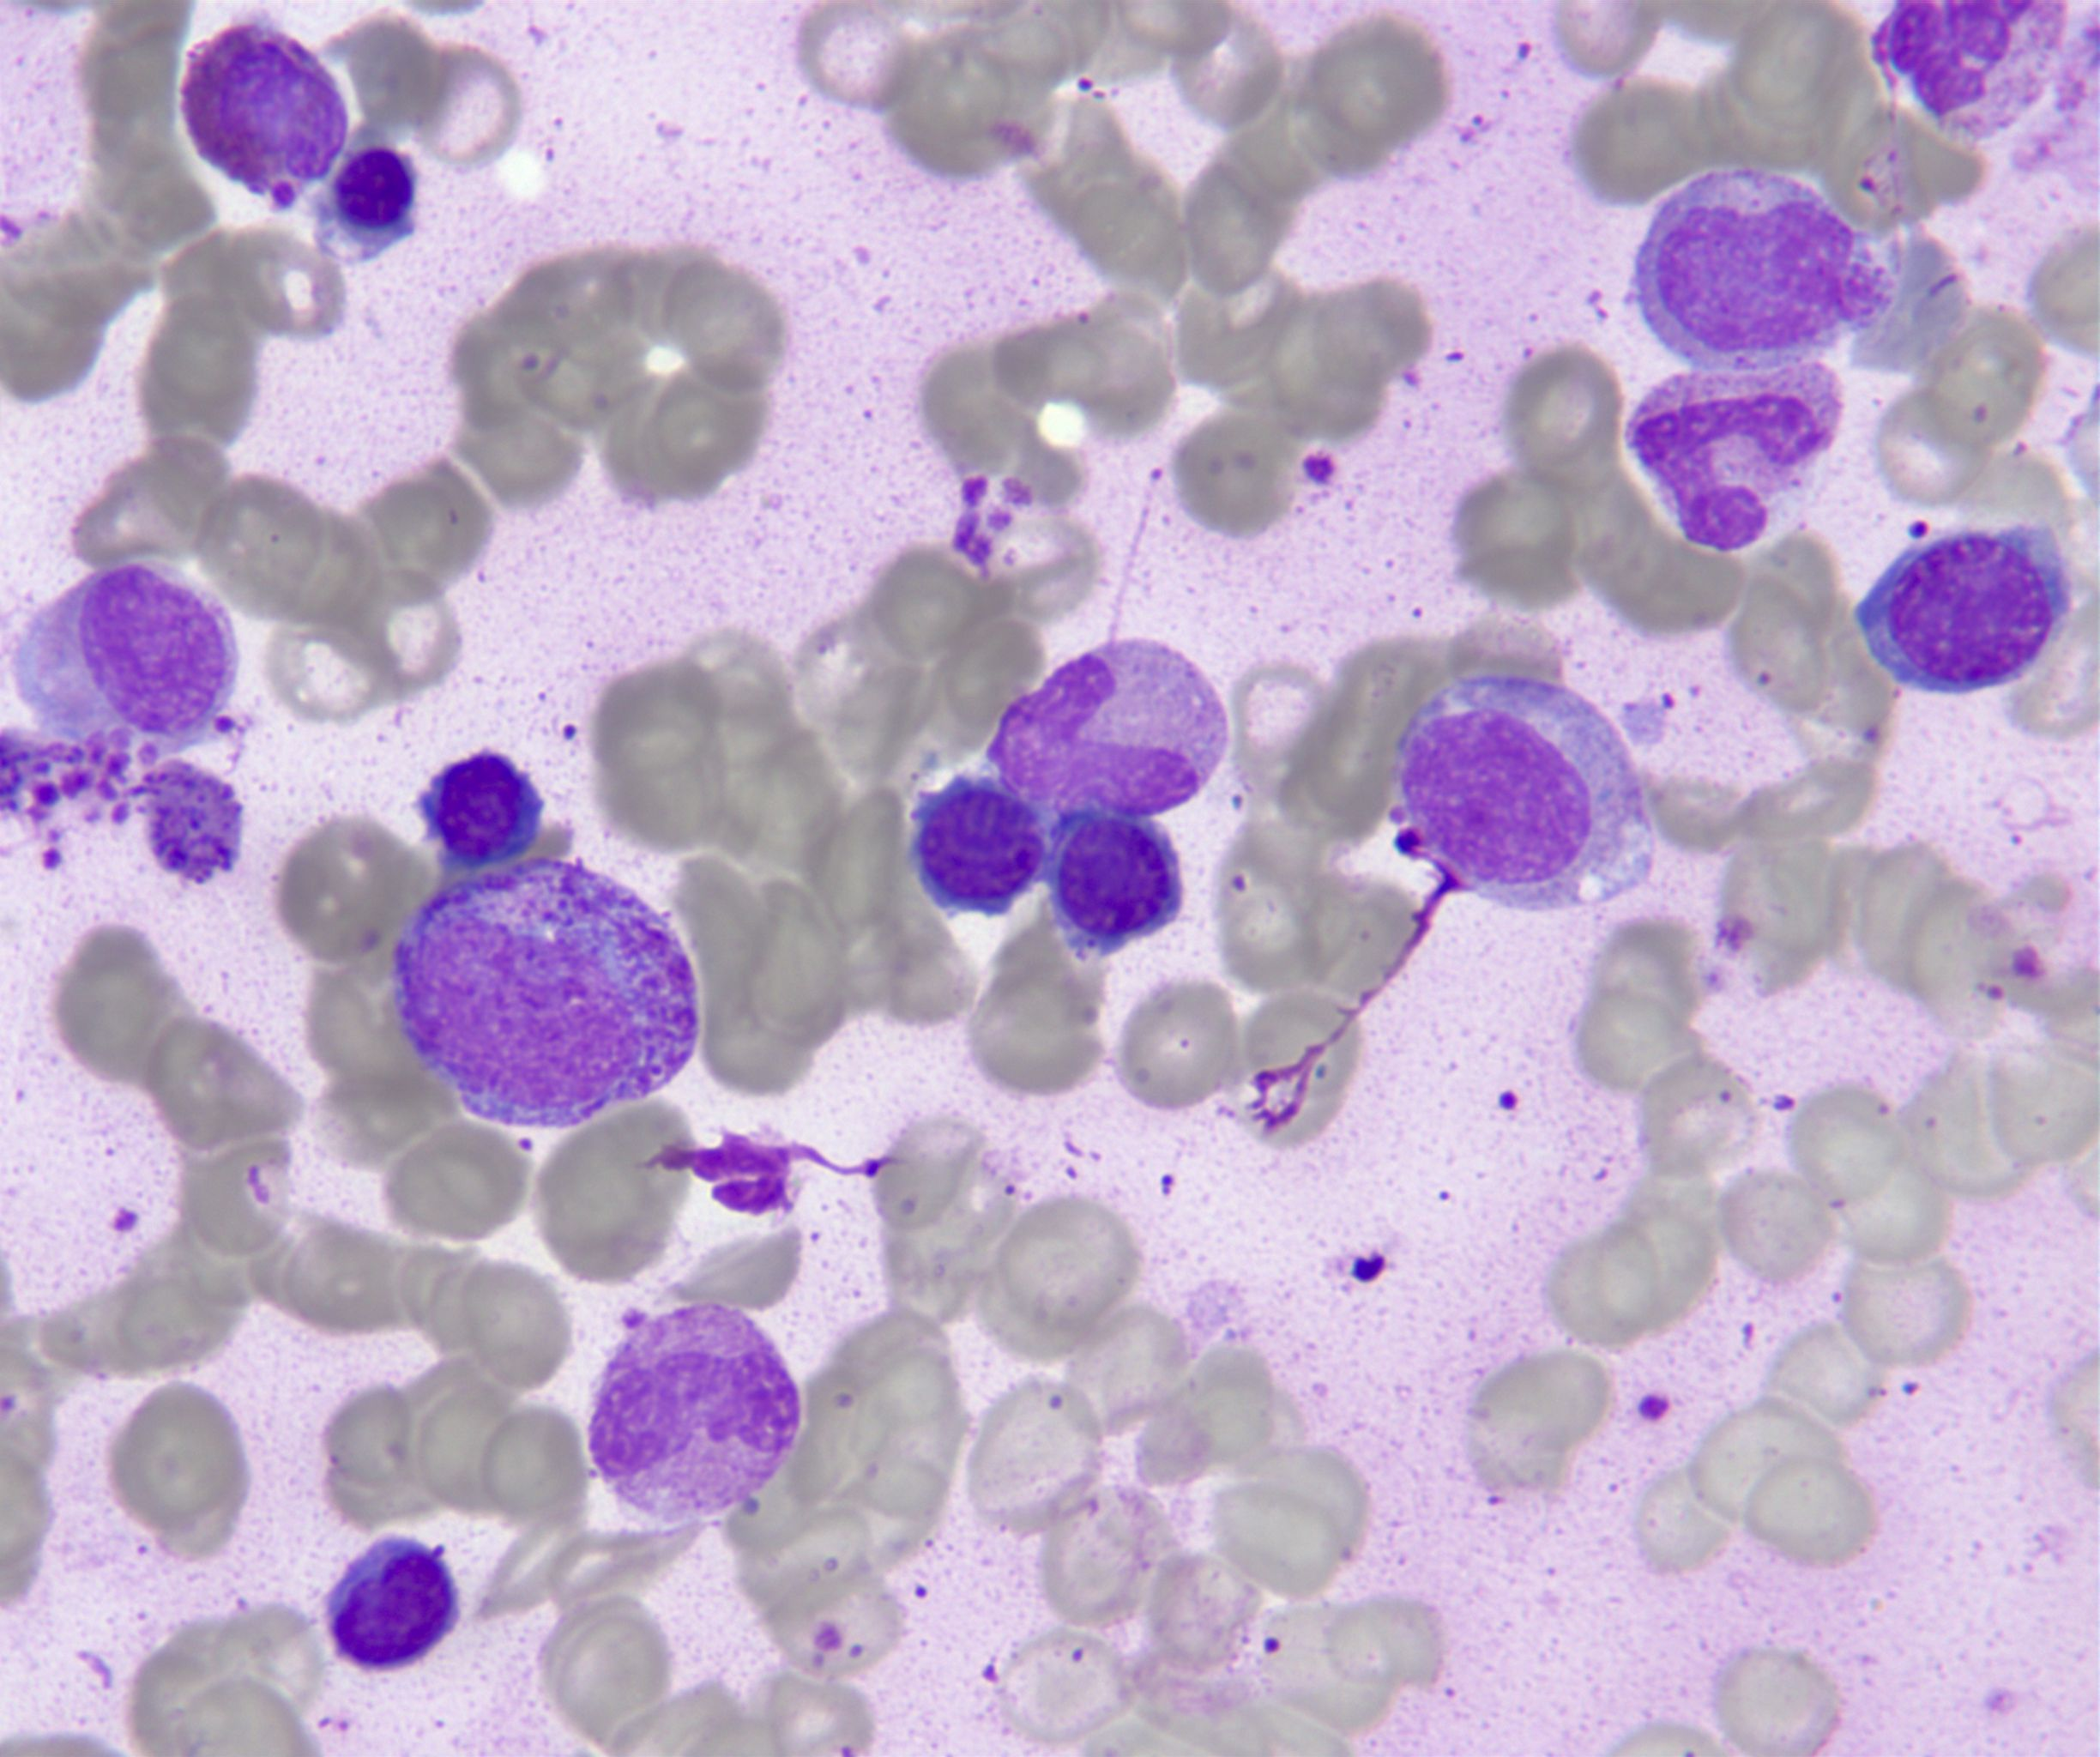2: (398, 862, 699, 1131)
23: (1856, 523, 2070, 694)
24: (1041, 804, 1184, 958), (903, 773, 1048, 918), (413, 750, 542, 878), (309, 133, 417, 263)
3: (1392, 673, 1655, 913), (1634, 167, 1894, 372), (12, 567, 237, 752)
32: (323, 1532, 460, 1675)
4: (588, 1303, 802, 1528), (985, 639, 1226, 817)
5: (1626, 358, 1840, 551)
E4: (180, 24, 347, 206)
